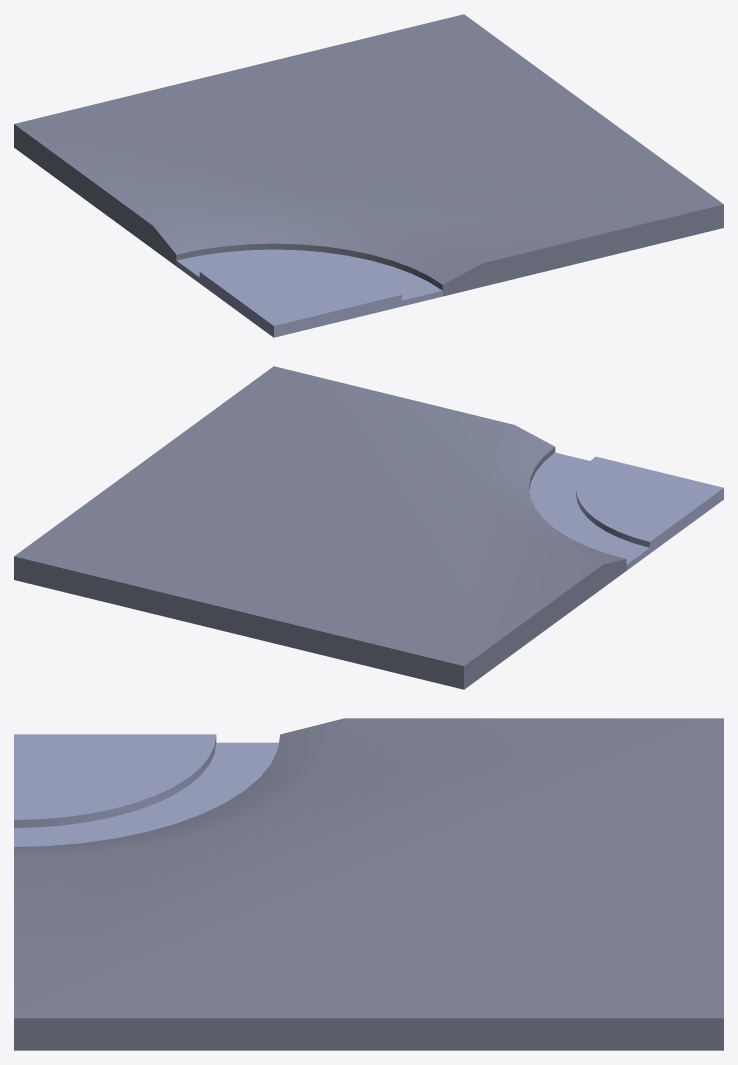
The model's file is road-kn-road-corner-inner.glb.
The picture shows the model from 3 angles, top to bottom: view 1: azimuth 30°, elevation 25°; view 2: azimuth 150°, elevation 25°; view 3: azimuth 270°, elevation 25°; orthographic projection. The views are drawn at different scales.
Parts seen in each view (by area): view 1: road-corner-inner; view 2: road-corner-inner; view 3: road-corner-inner.
Boxes of the visible parts, left/top/right/bottom form: road-corner-inner: left=14, top=14, right=723, bottom=337; road-corner-inner: left=14, top=366, right=723, bottom=689; road-corner-inner: left=14, top=718, right=723, bottom=1050.
Bounding box in the file's own units: 3 × 0.15 × 3.
1 material, 1 textured.
